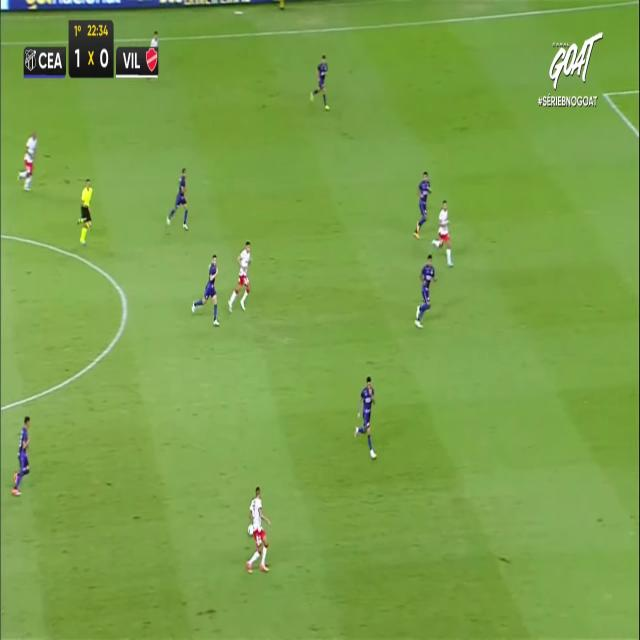ball: (248, 523, 255, 538)
player: (191, 253, 220, 326), (246, 486, 270, 573), (354, 375, 376, 458), (228, 240, 252, 312), (414, 253, 436, 327), (430, 199, 453, 267), (11, 413, 30, 494), (166, 166, 189, 229), (414, 170, 432, 239), (18, 130, 37, 191), (310, 54, 329, 109), (149, 25, 160, 82)
referee: (77, 177, 92, 244)
